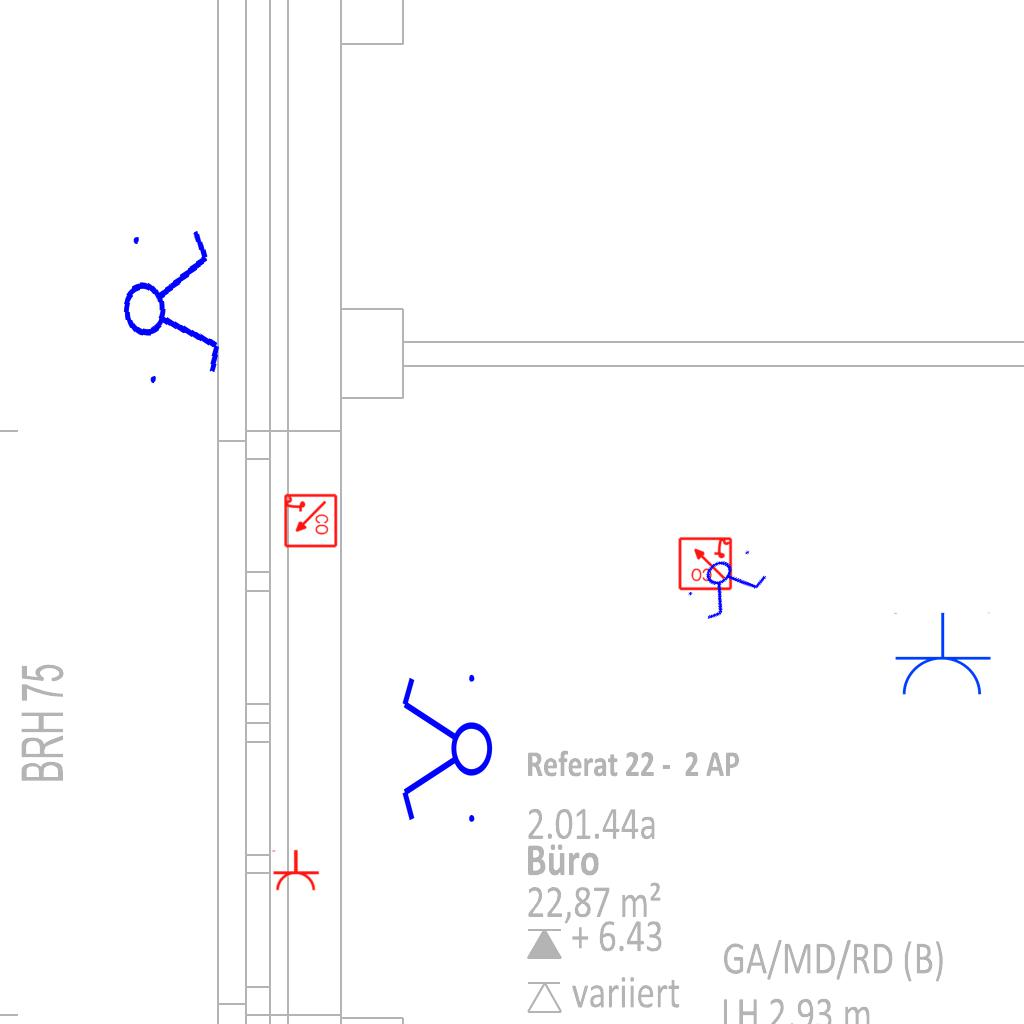ROA_Rauchmelder_optisch_mit_Signalgeber_(Sockelsirene): (677, 535, 733, 591), (282, 493, 338, 549)
Schukosteckdose_einfach: (892, 612, 992, 699), (270, 849, 320, 892)
Serienschalter: (112, 215, 228, 395), (398, 666, 494, 834), (678, 538, 776, 628)
